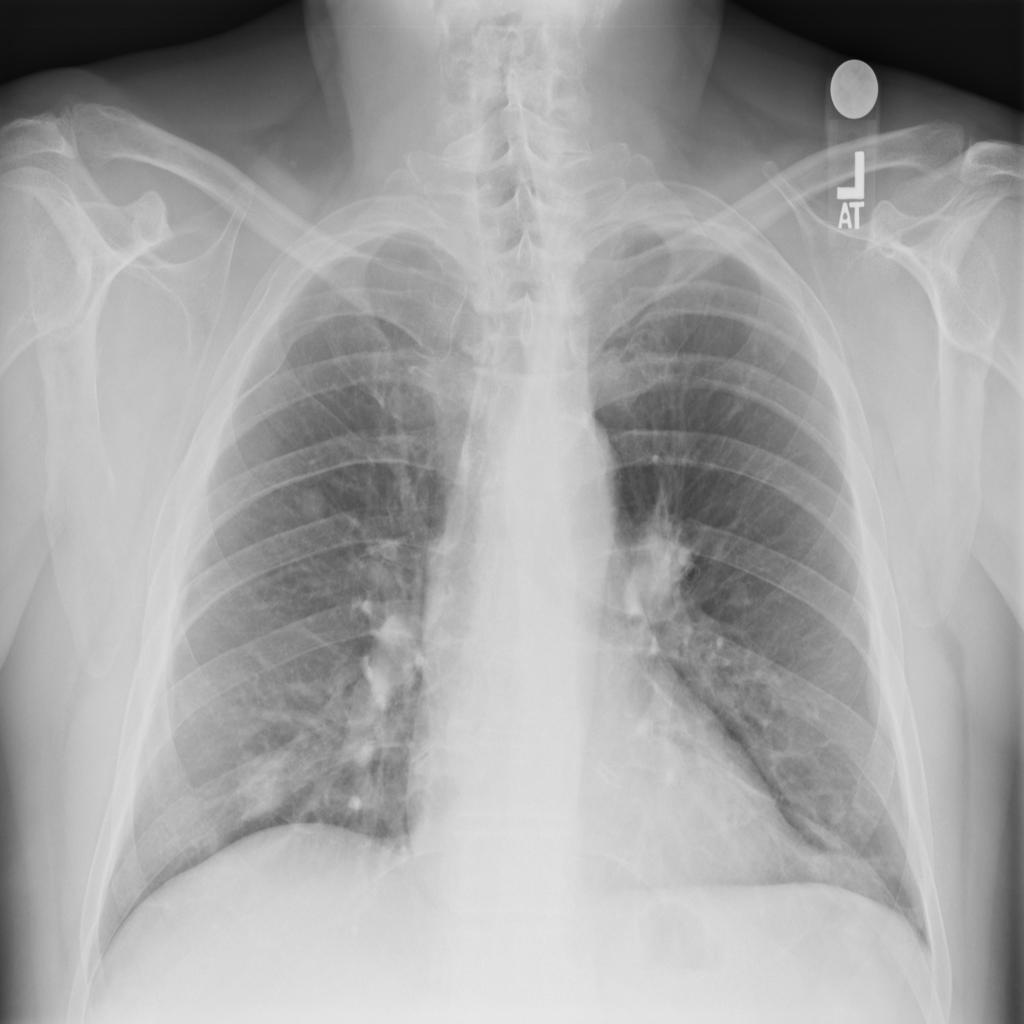nodule: (214, 728, 308, 841), (789, 834, 868, 904), (801, 772, 871, 843), (286, 477, 337, 529)
